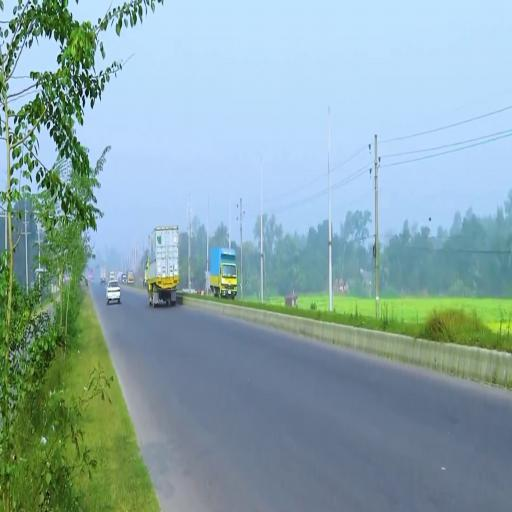car: (107, 281, 122, 307)
pickup: (147, 230, 180, 305), (209, 246, 238, 297)
truck: (128, 271, 135, 285), (110, 271, 116, 280)
